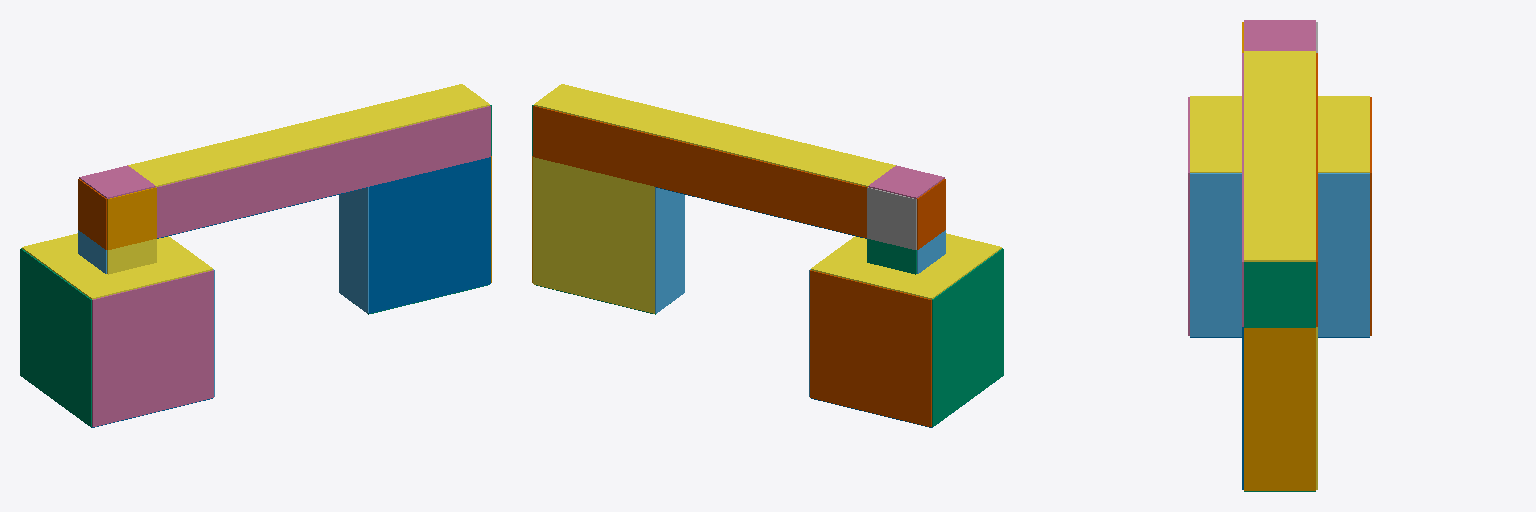
--- What the picture shows (computed from the rendered views, not written in the file) ---
3 views of the same robot in one strip: view 1: azimuth 30°, elevation 25°; view 2: azimuth 150°, elevation 25°; view 3: azimuth 270°, elevation 25° (orthographic).
Model robot with 51 links and 50 joints (2 continuous, 48 fixed), rooted at body, posed every joint at zero.
Links seen in each view (by area): view 1: arm_sensor_0_right, body_sensor_0_right, hand_1_sensor_0_right, arm_sensor_0_top, body_sensor_0_stop, body_sensor_0_top, hand_1_sensor_0_stop, joint_2_sensor_0_right, joint_2_sensor_0_stop, joint_2_sensor_0_top, joint_1_sensor_0_right, joint_1_sensor_0_stop; view 2: arm_sensor_0_left, body_sensor_0_left, hand_1_sensor_0_left, arm_sensor_0_top, body_sensor_0_stop, body_sensor_0_top, hand_1_sensor_0_stop, joint_2_sensor_0_left, joint_2_sensor_0_stop, joint_2_sensor_0_top, joint_1_sensor_0_left, joint_1_sensor_0_stop; view 3: body_sensor_0_start, arm_sensor_0_top, hand_1_sensor_0_start, body_sensor_0_top, arm_sensor_0_start, joint_2_sensor_0_top, arm_sensor_0_left, arm_sensor_0_right.
Boxes of the visible links, left/top/right/bottom form: arm_sensor_0_right: left=156, top=106, right=490, bottom=237; body_sensor_0_right: left=92, top=270, right=213, bottom=426; hand_1_sensor_0_right: left=369, top=157, right=490, bottom=313; arm_sensor_0_top: left=128, top=84, right=489, bottom=186; body_sensor_0_stop: left=20, top=248, right=91, bottom=426; body_sensor_0_top: left=22, top=233, right=212, bottom=299; hand_1_sensor_0_stop: left=339, top=187, right=368, bottom=313; joint_2_sensor_0_right: left=107, top=187, right=156, bottom=249; joint_2_sensor_0_stop: left=78, top=179, right=106, bottom=249; joint_2_sensor_0_top: left=79, top=165, right=155, bottom=198; joint_1_sensor_0_right: left=107, top=239, right=156, bottom=274; joint_1_sensor_0_stop: left=78, top=230, right=106, bottom=273; arm_sensor_0_left: left=533, top=106, right=867, bottom=237; body_sensor_0_left: left=810, top=270, right=931, bottom=426; hand_1_sensor_0_left: left=533, top=157, right=654, bottom=313; arm_sensor_0_top: left=534, top=84, right=895, bottom=186; body_sensor_0_stop: left=932, top=248, right=1003, bottom=426; body_sensor_0_top: left=811, top=233, right=1001, bottom=299; hand_1_sensor_0_stop: left=655, top=187, right=684, bottom=313; joint_2_sensor_0_left: left=867, top=187, right=916, bottom=249; joint_2_sensor_0_stop: left=917, top=179, right=945, bottom=249; joint_2_sensor_0_top: left=868, top=165, right=944, bottom=198; joint_1_sensor_0_left: left=867, top=239, right=916, bottom=274; joint_1_sensor_0_stop: left=917, top=230, right=945, bottom=273; body_sensor_0_start: left=1190, top=173, right=1369, bottom=336; arm_sensor_0_top: left=1244, top=51, right=1315, bottom=261; hand_1_sensor_0_start: left=1244, top=328, right=1315, bottom=490; body_sensor_0_top: left=1190, top=96, right=1369, bottom=172; arm_sensor_0_start: left=1244, top=262, right=1315, bottom=327; joint_2_sensor_0_top: left=1244, top=20, right=1315, bottom=50; arm_sensor_0_left: left=1316, top=53, right=1317, bottom=326; arm_sensor_0_right: left=1242, top=53, right=1243, bottom=326.
Size in the robot's own frame: 3.47 by 1.02 by 1.62 metres.
Geometry: primitives only (box / cylinder / sphere), no mesh files.

The robot description file, URDF, robot "robot":
<?xml version="1.0"?>
    <robot name="robot">


    <!-- body -->
    <link name="body">
        <inertial>
            <origin xyz="0 0 0" rpy="0 0 0"/>
            <mass value="100"/>
            <inertia ixx=".1" ixy=".1" ixz=".1" iyy=".1" iyz=".1" izz=".1"/>
        </inertial>
        <visual>
            <origin xyz="0 0 0" rpy="0 0 0"/>
            <geometry>
                <box size="1 1 1"/>
            </geometry>
        </visual>
        <collision>
            <origin xyz="0 0 0" rpy="0 0 0"/>
            <geometry>
                <box size="1 1 1"/>
            </geometry>
        </collision>
    </link>


    <!-- body_sensor_0_start -->
    <link name="body_sensor_0_start">
        <inertial>
            <origin xyz="0 0 0" rpy="0 0 0"/>
            <mass value="0"/>
            <inertia ixx=".1" ixy=".1" ixz=".1" iyy=".1" iyz=".1" izz=".1"/>
        </inertial>
        <visual>
            <origin xyz="0 0 0" rpy="0 0 0"/>
            <geometry>
                <box size="0.02 1 1"/>
            </geometry>
        </visual>
        <collision>
            <origin xyz="0 0 0" rpy="0 0 0"/>
            <geometry>
                <box size="0.02 1 1"/>
            </geometry>
        </collision>
    </link>
    <!-- Joint: body, body_sensor_0_start -->
    <joint name="body_body_sensor_0_start_joint" type="fixed">
        <parent link="body"/>
        <child link="body_sensor_0_start"/>
        <origin xyz="0.5 0 0"
                rpy="0 0 0"/>
        <axis xyz="0 0 1"/>
        
    </joint>


    <!-- body_sensor_0_stop -->
    <link name="body_sensor_0_stop">
        <inertial>
            <origin xyz="0 0 0" rpy="0 0 0"/>
            <mass value="0"/>
            <inertia ixx=".1" ixy=".1" ixz=".1" iyy=".1" iyz=".1" izz=".1"/>
        </inertial>
        <visual>
            <origin xyz="0 0 0" rpy="0 0 0"/>
            <geometry>
                <box size="0.02 1 1"/>
            </geometry>
        </visual>
        <collision>
            <origin xyz="0 0 0" rpy="0 0 0"/>
            <geometry>
                <box size="0.02 1 1"/>
            </geometry>
        </collision>
    </link>
    <!-- Joint: body, body_sensor_0_stop -->
    <joint name="body_body_sensor_0_stop_joint" type="fixed">
        <parent link="body"/>
        <child link="body_sensor_0_stop"/>
        <origin xyz="-0.5 0 0"
                rpy="0 0 0"/>
        <axis xyz="0 0 1"/>
        
    </joint>


    <!-- body_sensor_0_top -->
    <link name="body_sensor_0_top">
        <inertial>
            <origin xyz="0 0 0" rpy="0 0 0"/>
            <mass value="0"/>
            <inertia ixx=".1" ixy=".1" ixz=".1" iyy=".1" iyz=".1" izz=".1"/>
        </inertial>
        <visual>
            <origin xyz="0 0 0" rpy="0 0 0"/>
            <geometry>
                <box size="1.0 1 0.02"/>
            </geometry>
        </visual>
        <collision>
            <origin xyz="0 0 0" rpy="0 0 0"/>
            <geometry>
                <box size="1.0 1 0.02"/>
            </geometry>
        </collision>
    </link>
    <!-- Joint: body, body_sensor_0_top -->
    <joint name="body_body_sensor_0_top_joint" type="fixed">
        <parent link="body"/>
        <child link="body_sensor_0_top"/>
        <origin xyz="0 0 0.5"
                rpy="0 0 0"/>
        <axis xyz="0 0 1"/>
        
    </joint>


    <!-- body_sensor_0_bottom -->
    <link name="body_sensor_0_bottom">
        <inertial>
            <origin xyz="0 0 0" rpy="0 0 0"/>
            <mass value="0"/>
            <inertia ixx=".1" ixy=".1" ixz=".1" iyy=".1" iyz=".1" izz=".1"/>
        </inertial>
        <visual>
            <origin xyz="0 0 0" rpy="0 0 0"/>
            <geometry>
                <box size="1.0 1 0.02"/>
            </geometry>
        </visual>
        <collision>
            <origin xyz="0 0 0" rpy="0 0 0"/>
            <geometry>
                <box size="1.0 1 0.02"/>
            </geometry>
        </collision>
    </link>
    <!-- Joint: body, body_sensor_0_bottom -->
    <joint name="body_body_sensor_0_bottom_joint" type="fixed">
        <parent link="body"/>
        <child link="body_sensor_0_bottom"/>
        <origin xyz="0 0 -0.5"
                rpy="0 0 0"/>
        <axis xyz="0 0 1"/>
        
    </joint>


    <!-- body_sensor_0_left -->
    <link name="body_sensor_0_left">
        <inertial>
            <origin xyz="0 0 0" rpy="0 0 0"/>
            <mass value="0"/>
            <inertia ixx=".1" ixy=".1" ixz=".1" iyy=".1" iyz=".1" izz=".1"/>
        </inertial>
        <visual>
            <origin xyz="0 0 0" rpy="0 0 0"/>
            <geometry>
                <box size="1.0 0.02 1"/>
            </geometry>
        </visual>
        <collision>
            <origin xyz="0 0 0" rpy="0 0 0"/>
            <geometry>
                <box size="1.0 0.02 1"/>
            </geometry>
        </collision>
    </link>
    <!-- Joint: body, body_sensor_0_left -->
    <joint name="body_body_sensor_0_left_joint" type="fixed">
        <parent link="body"/>
        <child link="body_sensor_0_left"/>
        <origin xyz="0 0.5 0"
                rpy="0 0 0"/>
        <axis xyz="0 0 1"/>
        
    </joint>


    <!-- body_sensor_0_right -->
    <link name="body_sensor_0_right">
        <inertial>
            <origin xyz="0 0 0" rpy="0 0 0"/>
            <mass value="0"/>
            <inertia ixx=".1" ixy=".1" ixz=".1" iyy=".1" iyz=".1" izz=".1"/>
        </inertial>
        <visual>
            <origin xyz="0 0 0" rpy="0 0 0"/>
            <geometry>
                <box size="1.0 0.02 1"/>
            </geometry>
        </visual>
        <collision>
            <origin xyz="0 0 0" rpy="0 0 0"/>
            <geometry>
                <box size="1.0 0.02 1"/>
            </geometry>
        </collision>
    </link>
    <!-- Joint: body, body_sensor_0_right -->
    <joint name="body_body_sensor_0_right_joint" type="fixed">
        <parent link="body"/>
        <child link="body_sensor_0_right"/>
        <origin xyz="0 -0.5 0"
                rpy="0 0 0"/>
        <axis xyz="0 0 1"/>
        
    </joint>


    <!-- joint_1 -->
    <link name="joint_1">
        <inertial>
            <origin xyz="0 0 0" rpy="0 0 0"/>
            <mass value="2"/>
            <inertia ixx=".1" ixy=".1" ixz=".1" iyy=".1" iyz=".1" izz=".1"/>
        </inertial>
        <visual>
            <origin xyz="0 0 0" rpy="0 0 0"/>
            <geometry>
                <box size="0.4 0.4 0.2"/>
            </geometry>
        </visual>
        <collision>
            <origin xyz="0 0 0" rpy="0 0 0"/>
            <geometry>
                <box size="0.4 0.4 0.2"/>
            </geometry>
        </collision>
    </link>


    <!-- joint_1_sensor_0_start -->
    <link name="joint_1_sensor_0_start">
        <inertial>
            <origin xyz="0 0 0" rpy="0 0 0"/>
            <mass value="0"/>
            <inertia ixx=".1" ixy=".1" ixz=".1" iyy=".1" iyz=".1" izz=".1"/>
        </inertial>
        <visual>
            <origin xyz="0 0 0" rpy="0 0 0"/>
            <geometry>
                <box size="0.02 0.4 0.2"/>
            </geometry>
        </visual>
        <collision>
            <origin xyz="0 0 0" rpy="0 0 0"/>
            <geometry>
                <box size="0.02 0.4 0.2"/>
            </geometry>
        </collision>
    </link>
    <!-- Joint: joint_1, joint_1_sensor_0_start -->
    <joint name="joint_1_joint_1_sensor_0_start_joint" type="fixed">
        <parent link="joint_1"/>
        <child link="joint_1_sensor_0_start"/>
        <origin xyz="0.2 0 0"
                rpy="0 0 0"/>
        <axis xyz="0 0 1"/>
        
    </joint>


    <!-- joint_1_sensor_0_stop -->
    <link name="joint_1_sensor_0_stop">
        <inertial>
            <origin xyz="0 0 0" rpy="0 0 0"/>
            <mass value="0"/>
            <inertia ixx=".1" ixy=".1" ixz=".1" iyy=".1" iyz=".1" izz=".1"/>
        </inertial>
        <visual>
            <origin xyz="0 0 0" rpy="0 0 0"/>
            <geometry>
                <box size="0.02 0.4 0.2"/>
            </geometry>
        </visual>
        <collision>
            <origin xyz="0 0 0" rpy="0 0 0"/>
            <geometry>
                <box size="0.02 0.4 0.2"/>
            </geometry>
        </collision>
    </link>
    <!-- Joint: joint_1, joint_1_sensor_0_stop -->
    <joint name="joint_1_joint_1_sensor_0_stop_joint" type="fixed">
        <parent link="joint_1"/>
        <child link="joint_1_sensor_0_stop"/>
        <origin xyz="-0.2 0 0"
                rpy="0 0 0"/>
        <axis xyz="0 0 1"/>
        
    </joint>


    <!-- joint_1_sensor_0_left -->
    <link name="joint_1_sensor_0_left">
        <inertial>
            <origin xyz="0 0 0" rpy="0 0 0"/>
            <mass value="0"/>
            <inertia ixx=".1" ixy=".1" ixz=".1" iyy=".1" iyz=".1" izz=".1"/>
        </inertial>
        <visual>
            <origin xyz="0 0 0" rpy="0 0 0"/>
            <geometry>
                <box size="0.4 0.02 0.2"/>
            </geometry>
        </visual>
        <collision>
            <origin xyz="0 0 0" rpy="0 0 0"/>
            <geometry>
                <box size="0.4 0.02 0.2"/>
            </geometry>
        </collision>
    </link>
    <!-- Joint: joint_1, joint_1_sensor_0_left -->
    <joint name="joint_1_joint_1_sensor_0_left_joint" type="fixed">
        <parent link="joint_1"/>
        <child link="joint_1_sensor_0_left"/>
        <origin xyz="0 0.2 0"
                rpy="0 0 0"/>
        <axis xyz="0 0 1"/>
        
    </joint>


    <!-- joint_1_sensor_0_right -->
    <link name="joint_1_sensor_0_right">
        <inertial>
            <origin xyz="0 0 0" rpy="0 0 0"/>
            <mass value="0"/>
            <inertia ixx=".1" ixy=".1" ixz=".1" iyy=".1" iyz=".1" izz=".1"/>
        </inertial>
        <visual>
            <origin xyz="0 0 0" rpy="0 0 0"/>
            <geometry>
                <box size="0.4 0.02 0.2"/>
            </geometry>
        </visual>
        <collision>
            <origin xyz="0 0 0" rpy="0 0 0"/>
            <geometry>
                <box size="0.4 0.02 0.2"/>
            </geometry>
        </collision>
    </link>
    <!-- Joint: joint_1, joint_1_sensor_0_right -->
    <joint name="joint_1_joint_1_sensor_0_right_joint" type="fixed">
        <parent link="joint_1"/>
        <child link="joint_1_sensor_0_right"/>
        <origin xyz="0 -0.2 0"
                rpy="0 0 0"/>
        <axis xyz="0 0 1"/>
        
    </joint>
    <!-- Joint: body, joint_1 -->
    <joint name="body_joint_1_joint" type="continuous">
        <parent link="body"/>
        <child link="joint_1"/>
        <origin xyz="0 0 0.6"
                rpy="0 0 0"/>
        <axis xyz="0 0 1"/>
        <limit lower="0" upper="0" effort="0" velocity="0"/>
    </joint>


    <!-- joint_2 -->
    <link name="joint_2">
        <inertial>
            <origin xyz="0 0 0" rpy="0 0 0"/>
            <mass value="2"/>
            <inertia ixx=".1" ixy=".1" ixz=".1" iyy=".1" iyz=".1" izz=".1"/>
        </inertial>
        <visual>
            <origin xyz="0 0 0" rpy="0 0 0"/>
            <geometry>
                <box size="0.4 0.4 0.4"/>
            </geometry>
        </visual>
        <collision>
            <origin xyz="0 0 0" rpy="0 0 0"/>
            <geometry>
                <box size="0.4 0.4 0.4"/>
            </geometry>
        </collision>
    </link>


    <!-- joint_2_sensor_0_stop -->
    <link name="joint_2_sensor_0_stop">
        <inertial>
            <origin xyz="0 0 0" rpy="0 0 0"/>
            <mass value="0"/>
            <inertia ixx=".1" ixy=".1" ixz=".1" iyy=".1" iyz=".1" izz=".1"/>
        </inertial>
        <visual>
            <origin xyz="0 0 0" rpy="0 0 0"/>
            <geometry>
                <box size="0.02 0.4 0.4"/>
            </geometry>
        </visual>
        <collision>
            <origin xyz="0 0 0" rpy="0 0 0"/>
            <geometry>
                <box size="0.02 0.4 0.4"/>
            </geometry>
        </collision>
    </link>
    <!-- Joint: joint_2, joint_2_sensor_0_stop -->
    <joint name="joint_2_joint_2_sensor_0_stop_joint" type="fixed">
        <parent link="joint_2"/>
        <child link="joint_2_sensor_0_stop"/>
        <origin xyz="-0.2 0 0"
                rpy="0 0 0"/>
        <axis xyz="0 1 0"/>
        
    </joint>


    <!-- joint_2_sensor_0_top -->
    <link name="joint_2_sensor_0_top">
        <inertial>
            <origin xyz="0 0 0" rpy="0 0 0"/>
            <mass value="0"/>
            <inertia ixx=".1" ixy=".1" ixz=".1" iyy=".1" iyz=".1" izz=".1"/>
        </inertial>
        <visual>
            <origin xyz="0 0 0" rpy="0 0 0"/>
            <geometry>
                <box size="0.4 0.4 0.02"/>
            </geometry>
        </visual>
        <collision>
            <origin xyz="0 0 0" rpy="0 0 0"/>
            <geometry>
                <box size="0.4 0.4 0.02"/>
            </geometry>
        </collision>
    </link>
    <!-- Joint: joint_2, joint_2_sensor_0_top -->
    <joint name="joint_2_joint_2_sensor_0_top_joint" type="fixed">
        <parent link="joint_2"/>
        <child link="joint_2_sensor_0_top"/>
        <origin xyz="0 0 0.2"
                rpy="0 0 0"/>
        <axis xyz="0 1 0"/>
        
    </joint>


    <!-- joint_2_sensor_0_left -->
    <link name="joint_2_sensor_0_left">
        <inertial>
            <origin xyz="0 0 0" rpy="0 0 0"/>
            <mass value="0"/>
            <inertia ixx=".1" ixy=".1" ixz=".1" iyy=".1" iyz=".1" izz=".1"/>
        </inertial>
        <visual>
            <origin xyz="0 0 0" rpy="0 0 0"/>
            <geometry>
                <box size="0.4 0.02 0.4"/>
            </geometry>
        </visual>
        <collision>
            <origin xyz="0 0 0" rpy="0 0 0"/>
            <geometry>
                <box size="0.4 0.02 0.4"/>
            </geometry>
        </collision>
    </link>
    <!-- Joint: joint_2, joint_2_sensor_0_left -->
    <joint name="joint_2_joint_2_sensor_0_left_joint" type="fixed">
        <parent link="joint_2"/>
        <child link="joint_2_sensor_0_left"/>
        <origin xyz="0 0.2 0"
                rpy="0 0 0"/>
        <axis xyz="0 1 0"/>
        
    </joint>


    <!-- joint_2_sensor_0_right -->
    <link name="joint_2_sensor_0_right">
        <inertial>
            <origin xyz="0 0 0" rpy="0 0 0"/>
            <mass value="0"/>
            <inertia ixx=".1" ixy=".1" ixz=".1" iyy=".1" iyz=".1" izz=".1"/>
        </inertial>
        <visual>
            <origin xyz="0 0 0" rpy="0 0 0"/>
            <geometry>
                <box size="0.4 0.02 0.4"/>
            </geometry>
        </visual>
        <collision>
            <origin xyz="0 0 0" rpy="0 0 0"/>
            <geometry>
                <box size="0.4 0.02 0.4"/>
            </geometry>
        </collision>
    </link>
    <!-- Joint: joint_2, joint_2_sensor_0_right -->
    <joint name="joint_2_joint_2_sensor_0_right_joint" type="fixed">
        <parent link="joint_2"/>
        <child link="joint_2_sensor_0_right"/>
        <origin xyz="0 -0.2 0"
                rpy="0 0 0"/>
        <axis xyz="0 1 0"/>
        
    </joint>
    <!-- Joint: joint_1, joint_2 -->
    <joint name="joint_1_joint_2_joint" type="continuous">
        <parent link="joint_1"/>
        <child link="joint_2"/>
        <origin xyz="0 0 0.30000000000000004"
                rpy="0 0 0"/>
        <axis xyz="0 1 0"/>
        <limit lower="0" upper="0" effort="0" velocity="0"/>
    </joint>


    <!-- arm -->
    <link name="arm">
        <inertial>
            <origin xyz="0 0 0" rpy="0 0 0"/>
            <mass value="2"/>
            <inertia ixx=".1" ixy=".1" ixz=".1" iyy=".1" iyz=".1" izz=".1"/>
        </inertial>
        <visual>
            <origin xyz="0 0 0" rpy="0 0 0"/>
            <geometry>
                <box size="2.75 0.4 0.4"/>
            </geometry>
        </visual>
        <collision>
            <origin xyz="0 0 0" rpy="0 0 0"/>
            <geometry>
                <box size="2.75 0.4 0.4"/>
            </geometry>
        </collision>
    </link>


    <!-- arm_sensor_0_start -->
    <link name="arm_sensor_0_start">
        <inertial>
            <origin xyz="0 0 0" rpy="0 0 0"/>
            <mass value="0"/>
            <inertia ixx=".1" ixy=".1" ixz=".1" iyy=".1" iyz=".1" izz=".1"/>
        </inertial>
        <visual>
            <origin xyz="0 0 0" rpy="0 0 0"/>
            <geometry>
                <box size="0.02 0.4 0.4"/>
            </geometry>
        </visual>
        <collision>
            <origin xyz="0 0 0" rpy="0 0 0"/>
            <geometry>
                <box size="0.02 0.4 0.4"/>
            </geometry>
        </collision>
    </link>
    <!-- Joint: arm, arm_sensor_0_start -->
    <joint name="arm_arm_sensor_0_start_joint" type="fixed">
        <parent link="arm"/>
        <child link="arm_sensor_0_start"/>
        <origin xyz="1.375 0 0"
                rpy="0 0 0"/>
        <axis xyz="0 1 0"/>
        
    </joint>


    <!-- arm_sensor_0_top -->
    <link name="arm_sensor_0_top">
        <inertial>
            <origin xyz="0 0 0" rpy="0 0 0"/>
            <mass value="0"/>
            <inertia ixx=".1" ixy=".1" ixz=".1" iyy=".1" iyz=".1" izz=".1"/>
        </inertial>
        <visual>
            <origin xyz="0 0 0" rpy="0 0 0"/>
            <geometry>
                <box size="2.75 0.4 0.02"/>
            </geometry>
        </visual>
        <collision>
            <origin xyz="0 0 0" rpy="0 0 0"/>
            <geometry>
                <box size="2.75 0.4 0.02"/>
            </geometry>
        </collision>
    </link>
    <!-- Joint: arm, arm_sensor_0_top -->
    <joint name="arm_arm_sensor_0_top_joint" type="fixed">
        <parent link="arm"/>
        <child link="arm_sensor_0_top"/>
        <origin xyz="0 0 0.2"
                rpy="0 0 0"/>
        <axis xyz="0 1 0"/>
        
    </joint>


    <!-- arm_sensor_0_bottom -->
    <link name="arm_sensor_0_bottom">
        <inertial>
            <origin xyz="0 0 0" rpy="0 0 0"/>
            <mass value="0"/>
            <inertia ixx=".1" ixy=".1" ixz=".1" iyy=".1" iyz=".1" izz=".1"/>
        </inertial>
        <visual>
            <origin xyz="0 0 0" rpy="0 0 0"/>
            <geometry>
                <box size="2.75 0.4 0.02"/>
            </geometry>
        </visual>
        <collision>
            <origin xyz="0 0 0" rpy="0 0 0"/>
            <geometry>
                <box size="2.75 0.4 0.02"/>
            </geometry>
        </collision>
    </link>
    <!-- Joint: arm, arm_sensor_0_bottom -->
    <joint name="arm_arm_sensor_0_bottom_joint" type="fixed">
        <parent link="arm"/>
        <child link="arm_sensor_0_bottom"/>
        <origin xyz="0 0 -0.2"
                rpy="0 0 0"/>
        <axis xyz="0 1 0"/>
        
    </joint>


    <!-- arm_sensor_0_left -->
    <link name="arm_sensor_0_left">
        <inertial>
            <origin xyz="0 0 0" rpy="0 0 0"/>
            <mass value="0"/>
            <inertia ixx=".1" ixy=".1" ixz=".1" iyy=".1" iyz=".1" izz=".1"/>
        </inertial>
        <visual>
            <origin xyz="0 0 0" rpy="0 0 0"/>
            <geometry>
                <box size="2.75 0.02 0.4"/>
            </geometry>
        </visual>
        <collision>
            <origin xyz="0 0 0" rpy="0 0 0"/>
            <geometry>
                <box size="2.75 0.02 0.4"/>
            </geometry>
        </collision>
    </link>
    <!-- Joint: arm, arm_sensor_0_left -->
    <joint name="arm_arm_sensor_0_left_joint" type="fixed">
        <parent link="arm"/>
        <child link="arm_sensor_0_left"/>
        <origin xyz="0 0.2 0"
                rpy="0 0 0"/>
        <axis xyz="0 1 0"/>
        
    </joint>


    <!-- arm_sensor_0_right -->
    <link name="arm_sensor_0_right">
        <inertial>
            <origin xyz="0 0 0" rpy="0 0 0"/>
            <mass value="0"/>
            <inertia ixx=".1" ixy=".1" ixz=".1" iyy=".1" iyz=".1" izz=".1"/>
        </inertial>
        <visual>
            <origin xyz="0 0 0" rpy="0 0 0"/>
            <geometry>
                <box size="2.75 0.02 0.4"/>
            </geometry>
        </visual>
        <collision>
            <origin xyz="0 0 0" rpy="0 0 0"/>
            <geometry>
                <box size="2.75 0.02 0.4"/>
            </geometry>
        </collision>
    </link>
    <!-- Joint: arm, arm_sensor_0_right -->
    <joint name="arm_arm_sensor_0_right_joint" type="fixed">
        <parent link="arm"/>
        <child link="arm_sensor_0_right"/>
        <origin xyz="0 -0.2 0"
                rpy="0 0 0"/>
        <axis xyz="0 1 0"/>
        
    </joint>
    <!-- Joint: joint_2, arm -->
    <joint name="joint_2_arm_joint" type="fixed">
        <parent link="joint_2"/>
        <child link="arm"/>
        <origin xyz="1.575 0 0"
                rpy="0 0 0"/>
        <axis xyz="0 1 0"/>
        
    </joint>


    <!-- hand_1 -->
    <link name="hand_1">
        <inertial>
            <origin xyz="0 0 0" rpy="0 0 0"/>
            <mass value="2"/>
            <inertia ixx=".1" ixy=".1" ixz=".1" iyy=".1" iyz=".1" izz=".1"/>
        </inertial>
        <visual>
            <origin xyz="0 0 0" rpy="0 0 0"/>
            <geometry>
                <box size="1 0.4 1"/>
            </geometry>
        </visual>
        <collision>
            <origin xyz="0 0 0" rpy="0 0 0"/>
            <geometry>
                <box size="1 0.4 1"/>
            </geometry>
        </collision>
    </link>


    <!-- hand_1_sensor_0_start -->
    <link name="hand_1_sensor_0_start">
        <inertial>
            <origin xyz="0 0 0" rpy="0 0 0"/>
            <mass value="0"/>
            <inertia ixx=".1" ixy=".1" ixz=".1" iyy=".1" iyz=".1" izz=".1"/>
        </inertial>
        <visual>
            <origin xyz="0 0 0" rpy="0 0 0"/>
            <geometry>
                <box size="0.02 0.4 1"/>
            </geometry>
        </visual>
        <collision>
            <origin xyz="0 0 0" rpy="0 0 0"/>
            <geometry>
                <box size="0.02 0.4 1"/>
            </geometry>
        </collision>
    </link>
    <!-- Joint: hand_1, hand_1_sensor_0_start -->
    <joint name="hand_1_hand_1_sensor_0_start_joint" type="fixed">
        <parent link="hand_1"/>
        <child link="hand_1_sensor_0_start"/>
        <origin xyz="0.5 0 0"
                rpy="0 0 0"/>
        <axis xyz="0 1 0"/>
        
    </joint>


    <!-- hand_1_sensor_0_stop -->
    <link name="hand_1_sensor_0_stop">
        <inertial>
            <origin xyz="0 0 0" rpy="0 0 0"/>
            <mass value="0"/>
            <inertia ixx=".1" ixy=".1" ixz=".1" iyy=".1" iyz=".1" izz=".1"/>
        </inertial>
        <visual>
            <origin xyz="0 0 0" rpy="0 0 0"/>
            <geometry>
                <box size="0.02 0.4 1"/>
            </geometry>
        </visual>
        <collision>
            <origin xyz="0 0 0" rpy="0 0 0"/>
            <geometry>
                <box size="0.02 0.4 1"/>
            </geometry>
        </collision>
    </link>
    <!-- Joint: hand_1, hand_1_sensor_0_stop -->
    <joint name="hand_1_hand_1_sensor_0_stop_joint" type="fixed">
        <parent link="hand_1"/>
        <child link="hand_1_sensor_0_stop"/>
        <origin xyz="-0.5 0 0"
                rpy="0 0 0"/>
        <axis xyz="0 1 0"/>
        
    </joint>


    <!-- hand_1_sensor_0_bottom -->
    <link name="hand_1_sensor_0_bottom">
        <inertial>
            <origin xyz="0 0 0" rpy="0 0 0"/>
            <mass value="0"/>
            <inertia ixx=".1" ixy=".1" ixz=".1" iyy=".1" iyz=".1" izz=".1"/>
        </inertial>
        <visual>
            <origin xyz="0 0 0" rpy="0 0 0"/>
            <geometry>
                <box size="1.0 0.4 0.02"/>
            </geometry>
        </visual>
        <collision>
            <origin xyz="0 0 0" rpy="0 0 0"/>
            <geometry>
                <box size="1.0 0.4 0.02"/>
            </geometry>
        </collision>
    </link>
    <!-- Joint: hand_1, hand_1_sensor_0_bottom -->
    <joint name="hand_1_hand_1_sensor_0_bottom_joint" type="fixed">
        <parent link="hand_1"/>
        <child link="hand_1_sensor_0_bottom"/>
        <origin xyz="0 0 -0.5"
                rpy="0 0 0"/>
        <axis xyz="0 1 0"/>
        
    </joint>


    <!-- hand_1_sensor_0_left -->
    <link name="hand_1_sensor_0_left">
        <inertial>
            <origin xyz="0 0 0" rpy="0 0 0"/>
            <mass value="0"/>
            <inertia ixx=".1" ixy=".1" ixz=".1" iyy=".1" iyz=".1" izz=".1"/>
        </inertial>
        <visual>
            <origin xyz="0 0 0" rpy="0 0 0"/>
            <geometry>
                <box size="1.0 0.02 1"/>
            </geometry>
        </visual>
        <collision>
            <origin xyz="0 0 0" rpy="0 0 0"/>
            <geometry>
                <box size="1.0 0.02 1"/>
            </geometry>
        </collision>
    </link>
    <!-- Joint: hand_1, hand_1_sensor_0_left -->
    <joint name="hand_1_hand_1_sensor_0_left_joint" type="fixed">
        <parent link="hand_1"/>
        <child link="hand_1_sensor_0_left"/>
        <origin xyz="0 0.2 0"
                rpy="0 0 0"/>
        <axis xyz="0 1 0"/>
        
    </joint>


    <!-- hand_1_sensor_0_right -->
    <link name="hand_1_sensor_0_right">
        <inertial>
            <origin xyz="0 0 0" rpy="0 0 0"/>
            <mass value="0"/>
            <inertia ixx=".1" ixy=".1" ixz=".1" iyy=".1" iyz=".1" izz=".1"/>
        </inertial>
        <visual>
            <origin xyz="0 0 0" rpy="0 0 0"/>
            <geometry>
                <box size="1.0 0.02 1"/>
            </geometry>
        </visual>
        <collision>
            <origin xyz="0 0 0" rpy="0 0 0"/>
            <geometry>
                <box size="1.0 0.02 1"/>
            </geometry>
        </collision>
    </link>
    <!-- Joint: hand_1, hand_1_sensor_0_right -->
    <joint name="hand_1_hand_1_sensor_0_right_joint" type="fixed">
        <parent link="hand_1"/>
        <child link="hand_1_sensor_0_right"/>
        <origin xyz="0 -0.2 0"
                rpy="0 0 0"/>
        <axis xyz="0 1 0"/>
        
    </joint>
    <!-- Joint: arm, hand_1 -->
    <joint name="arm_hand_1_joint" type="fixed">
        <parent link="arm"/>
        <child link="hand_1"/>
        <origin xyz="0.875 0 -0.7"
                rpy="0 0 0"/>
        <axis xyz="0 1 0"/>
        
    </joint>


    <!-- body_face_front_0 -->
    <link name="body_face_front_0">
        <inertial>
            <origin xyz="0 0 0" rpy="0 0 0"/>
            <mass value="0"/>
            <inertia ixx=".1" ixy=".1" ixz=".1" iyy=".1" iyz=".1" izz=".1"/>
        </inertial>
        <visual>
            <origin xyz="0 0 0" rpy="0 0 0"/>
            <geometry>
                <box size="0.002 0.1111111111111111 0.1111111111111111"/>
            </geometry>
        </visual>
        <collision>
            <origin xyz="0 0 0" rpy="0 0 0"/>
            <geometry>
                <box size="0.002 0.1111111111111111 0.1111111111111111"/>
            </geometry>
        </collision>
    </link>
    <!-- Joint: body, body_face_front_0 -->
    <joint name="body_body_face_front_0_joint" type="fixed">
        <parent link="body"/>
        <child link="body_face_front_0"/>
        <origin xyz="0.501 -0.33333333333333337 0.11111111111111116"
                rpy="0 0 0"/>
        <axis xyz="0 0 1"/>
        
    </joint>


    <!-- body_face_front_1 -->
    <link name="body_face_front_1">
        <inertial>
            <origin xyz="0 0 0" rpy="0 0 0"/>
            <mass value="0"/>
            <inertia ixx=".1" ixy=".1" ixz=".1" iyy=".1" iyz=".1" izz=".1"/>
        </inertial>
        <visual>
            <origin xyz="0 0 0" rpy="0 0 0"/>
            <geometry>
                <box size="0.002 0.1111111111111111 0.1111111111111111"/>
            </geometry>
        </visual>
        <collision>
            <origin xyz="0 0 0" rpy="0 0 0"/>
            <geometry>
                <box size="0.002 0.1111111111111111 0.1111111111111111"/>
            </geometry>
        </collision>
    </link>
    <!-- Joint: body, body_face_front_1 -->
    <joint name="body_body_face_front_1_joint" type="fixed">
        <parent link="body"/>
        <child link="body_face_front_1"/>
        <origin xyz="0.501 -0.2222222222222222 0.2222222222222222"
                rpy="0 0 0"/>
        <axis xyz="0 0 1"/>
        
    </joint>


    <!-- body_face_front_2 -->
    <link name="body_face_front_2">
        <inertial>
            <origin xyz="0 0 0" rpy="0 0 0"/>
            <mass value="0"/>
            <inertia ixx=".1" ixy=".1" ixz=".1" iyy=".1" iyz=".1" izz=".1"/>
        </inertial>
        <visual>
            <origin xyz="0 0 0" rpy="0 0 0"/>
            <geometry>
                <box size="0.002 0.1111111111111111 0.1111111111111111"/>
            </geometry>
        </visual>
        <collision>
            <origin xyz="0 0 0" rpy="0 0 0"/>
            <geometry>
                <box size="0.002 0.1111111111111111 0.1111111111111111"/>
            </geometry>
        </collision>
    </link>
    <!-- Joint: body, body_face_front_2 -->
    <joint name="body_body_face_front_2_joint" type="fixed">
        <parent link="body"/>
        <child link="body_face_front_2"/>
        <origin xyz="0.501 -0.1111111111111111 0.11111111111111116"
                rpy="0 0 0"/>
        <axis xyz="0 0 1"/>
        
    </joint>


    <!-- body_face_front_3 -->
    <link name="body_face_front_3">
        <inertial>
            <origin xyz="0 0 0" rpy="0 0 0"/>
            <mass value="0"/>
            <inertia ixx=".1" ixy=".1" ixz=".1" iyy=".1" iyz=".1" izz=".1"/>
        </inertial>
        <visual>
            <origin xyz="0 0 0" rpy="0 0 0"/>
            <geometry>
                <box size="0.002 0.1111111111111111 0.1111111111111111"/>
            </geometry>
        </visual>
        <collision>
            <origin xyz="0 0 0" rpy="0 0 0"/>
            <geometry>
                <box size="0.002 0.1111111111111111 0.1111111111111111"/>
            </geometry>
        </collision>
    </link>
    <!-- Joint: body, body_face_front_3 -->
    <joint name="body_body_face_front_3_joint" type="fixed">
        <parent link="body"/>
        <child link="body_face_front_3"/>
        <origin xyz="0.501 -0.1111111111111111 -0.2222222222222222"
                rpy="0 0 0"/>
        <axis xyz="0 0 1"/>
        
    </joint>


    <!-- body_face_front_4 -->
    <link name="body_face_front_4">
        <inertial>
            <origin xyz="0 0 0" rpy="0 0 0"/>
            <mass value="0"/>
            <inertia ixx=".1" ixy=".1" ixz=".1" iyy=".1" iyz=".1" izz=".1"/>
        </inertial>
        <visual>
            <origin xyz="0 0 0" rpy="0 0 0"/>
            <geometry>
                <box size="0.002 0.1111111111111111 0.1111111111111111"/>
            </geometry>
        </visual>
        <collision>
            <origin xyz="0 0 0" rpy="0 0 0"/>
            <geometry>
                <box size="0.002 0.1111111111111111 0.1111111111111111"/>
            </geometry>
        </collision>
    </link>
    <!-- Joint: body, body_face_front_4 -->
    <joint name="body_body_face_front_4_joint" type="fixed">
        <parent link="body"/>
        <child link="body_face_front_4"/>
        <origin xyz="0.501 0.0 -0.2222222222222222"
                rpy="0 0 0"/>
        <axis xyz="0 0 1"/>
        
    </joint>


    <!-- body_face_front_5 -->
    <link name="body_face_front_5">
        <inertial>
            <origin xyz="0 0 0" rpy="0 0 0"/>
            <mass value="0"/>
            <inertia ixx=".1" ixy=".1" ixz=".1" iyy=".1" iyz=".1" izz=".1"/>
        </inertial>
        <visual>
            <origin xyz="0 0 0" rpy="0 0 0"/>
            <geometry>
                <box size="0.002 0.1111111111111111 0.1111111111111111"/>
            </geometry>
        </visual>
        <collision>
            <origin xyz="0 0 0" rpy="0 0 0"/>
            <geometry>
                <box size="0.002 0.1111111111111111 0.1111111111111111"/>
            </geometry>
        </collision>
    </link>
    <!-- Joint: body, body_face_front_5 -->
    <joint name="body_body_face_front_5_joint" type="fixed">
        <parent link="body"/>
        <child link="body_face_front_5"/>
        <origin xyz="0.501 0.11111111111111116 0.11111111111111116"
                rpy="0 0 0"/>
        <axis xyz="0 0 1"/>
        
    </joint>


    <!-- body_face_front_6 -->
    <link name="body_face_front_6">
        <inertial>
            <origin xyz="0 0 0" rpy="0 0 0"/>
            <mass value="0"/>
            <inertia ixx=".1" ixy=".1" ixz=".1" iyy=".1" iyz=".1" izz=".1"/>
        </inertial>
        <visual>
            <origin xyz="0 0 0" rpy="0 0 0"/>
            <geometry>
                <box size="0.002 0.1111111111111111 0.1111111111111111"/>
            </geometry>
        </visual>
        <collision>
            <origin xyz="0 0 0" rpy="0 0 0"/>
            <geometry>
                <box size="0.002 0.1111111111111111 0.1111111111111111"/>
            </geometry>
        </collision>
    </link>
    <!-- Joint: body, body_face_front_6 -->
    <joint name="body_body_face_front_6_joint" type="fixed">
        <parent link="body"/>
        <child link="body_face_front_6"/>
        <origin xyz="0.501 0.11111111111111116 -0.2222222222222222"
                rpy="0 0 0"/>
        <axis xyz="0 0 1"/>
        
    </joint>


    <!-- body_face_front_7 -->
    <link name="body_face_front_7">
        <inertial>
            <origin xyz="0 0 0" rpy="0 0 0"/>
            <mass value="0"/>
            <inertia ixx=".1" ixy=".1" ixz=".1" iyy=".1" iyz=".1" izz=".1"/>
        </inertial>
        <visual>
            <origin xyz="0 0 0" rpy="0 0 0"/>
            <geometry>
                <box size="0.002 0.1111111111111111 0.1111111111111111"/>
            </geometry>
        </visual>
        <collision>
            <origin xyz="0 0 0" rpy="0 0 0"/>
            <geometry>
                <box size="0.002 0.1111111111111111 0.1111111111111111"/>
            </geometry>
        </collision>
    </link>
    <!-- Joint: body, body_face_front_7 -->
    <joint name="body_body_face_front_7_joint" type="fixed">
        <parent link="body"/>
        <child link="body_face_front_7"/>
        <origin xyz="0.501 0.2222222222222222 0.2222222222222222"
                rpy="0 0 0"/>
        <axis xyz="0 0 1"/>
        
    </joint>


    <!-- body_face_front_8 -->
    <link name="body_face_front_8">
        <inertial>
            <origin xyz="0 0 0" rpy="0 0 0"/>
            <mass value="0"/>
            <inertia ixx=".1" ixy=".1" ixz=".1" iyy=".1" iyz=".1" izz=".1"/>
        </inertial>
        <visual>
            <origin xyz="0 0 0" rpy="0 0 0"/>
            <geometry>
                <box size="0.002 0.1111111111111111 0.1111111111111111"/>
            </geometry>
        </visual>
        <collision>
            <origin xyz="0 0 0" rpy="0 0 0"/>
            <geometry>
                <box size="0.002 0.1111111111111111 0.1111111111111111"/>
            </geometry>
        </collision>
    </link>
    <!-- Joint: body, body_face_front_8 -->
    <joint name="body_body_face_front_8_joint" type="fixed">
        <parent link="body"/>
        <child link="body_face_front_8"/>
        <origin xyz="0.501 0.33333333333333337 0.11111111111111116"
                rpy="0 0 0"/>
        <axis xyz="0 0 1"/>
        
    </joint>


    <!-- body_face_top_0 -->
    <link name="body_face_top_0">
        <inertial>
            <origin xyz="0 0 0" rpy="0 0 0"/>
            <mass value="0"/>
            <inertia ixx=".1" ixy=".1" ixz=".1" iyy=".1" iyz=".1" izz=".1"/>
        </inertial>
        <visual>
            <origin xyz="0 0 0" rpy="0 0 0"/>
            <geometry>
                <box size="0.1111111111111111 0.1111111111111111 0.002"/>
            </geometry>
        </visual>
        <collision>
            <origin xyz="0 0 0" rpy="0 0 0"/>
            <geometry>
                <box size="0.1111111111111111 0.1111111111111111 0.002"/>
            </geometry>
        </collision>
    </link>
    <!-- Joint: body, body_face_top_0 -->
    <joint name="body_body_face_top_0_joint" type="fixed">
        <parent link="body"/>
        <child link="body_face_top_0"/>
        <origin xyz="0.11111111111111116 -0.2222222222222222 0.501"
                rpy="0 0 0"/>
        <axis xyz="0 0 1"/>
        
    </joint>


    <!-- body_face_top_1 -->
    <link name="body_face_top_1">
        <inertial>
            <origin xyz="0 0 0" rpy="0 0 0"/>
            <mass value="0"/>
            <inertia ixx=".1" ixy=".1" ixz=".1" iyy=".1" iyz=".1" izz=".1"/>
        </inertial>
        <visual>
            <origin xyz="0 0 0" rpy="0 0 0"/>
            <geometry>
                <box size="0.1111111111111111 0.1111111111111111 0.002"/>
            </geometry>
        </visual>
        <collision>
            <origin xyz="0 0 0" rpy="0 0 0"/>
            <geometry>
                <box size="0.1111111111111111 0.1111111111111111 0.002"/>
            </geometry>
        </collision>
    </link>
    <!-- Joint: body, body_face_top_1 -->
    <joint name="body_body_face_top_1_joint" type="fixed">
        <parent link="body"/>
        <child link="body_face_top_1"/>
        <origin xyz="0.11111111111111116 -0.1111111111111111 0.501"
                rpy="0 0 0"/>
        <axis xyz="0 0 1"/>
        
    </joint>


    <!-- body_face_top_2 -->
    <link name="body_face_top_2">
        <inertial>
            <origin xyz="0 0 0" rpy="0 0 0"/>
            <mass value="0"/>
            <inertia ixx=".1" ixy=".1" ixz=".1" iyy=".1" iyz=".1" izz=".1"/>
        </inertial>
        <visual>
            <origin xyz="0 0 0" rpy="0 0 0"/>
            <geometry>
                <box size="0.1111111111111111 0.1111111111111111 0.002"/>
            </geometry>
        </visual>
        <collision>
            <origin xyz="0 0 0" rpy="0 0 0"/>
            <geometry>
                <box size="0.1111111111111111 0.1111111111111111 0.002"/>
            </geometry>
        </collision>
    </link>
    <!-- Joint: body, body_face_top_2 -->
    <joint name="body_body_face_top_2_joint" type="fixed">
        <parent link="body"/>
        <child link="body_face_top_2"/>
        <origin xyz="0.2222222222222222 -0.1111111111111111 0.501"
                rpy="0 0 0"/>
        <axis xyz="0 0 1"/>
        
    </joint>


    <!-- body_face_top_3 -->
    <link name="body_face_top_3">
        <inertial>
            <origin xyz="0 0 0" rpy="0 0 0"/>
            <mass value="0"/>
            <inertia ixx=".1" ixy=".1" ixz=".1" iyy=".1" iyz=".1" izz=".1"/>
        </inertial>
        <visual>
            <origin xyz="0 0 0" rpy="0 0 0"/>
            <geometry>
                <box size="0.1111111111111111 0.1111111111111111 0.002"/>
            </geometry>
        </visual>
        <collision>
            <origin xyz="0 0 0" rpy="0 0 0"/>
            <geometry>
                <box size="0.1111111111111111 0.1111111111111111 0.002"/>
            </geometry>
        </collision>
    </link>
    <!-- Joint: body, body_face_top_3 -->
    <joint name="body_body_face_top_3_joint" type="fixed">
        <parent link="body"/>
        <child link="body_face_top_3"/>
        <origin xyz="-0.33333333333333337 0.0 0.501"
                rpy="0 0 0"/>
        <axis xyz="0 0 1"/>
        
    </joint>


    <!-- body_face_top_4 -->
    <link name="body_face_top_4">
        <inertial>
            <origin xyz="0 0 0" rpy="0 0 0"/>
            <mass value="0"/>
            <inertia ixx=".1" ixy=".1" ixz=".1" iyy=".1" iyz=".1" izz=".1"/>
        </inertial>
        <visual>
            <origin xyz="0 0 0" rpy="0 0 0"/>
            <geometry>
                <box size="0.1111111111111111 0.1111111111111111 0.002"/>
            </geometry>
        </visual>
        <collision>
            <origin xyz="0 0 0" rpy="0 0 0"/>
            <geometry>
                <box size="0.1111111111111111 0.1111111111111111 0.002"/>
            </geometry>
        </collision>
    </link>
    <!-- Joint: body, body_face_top_4 -->
    <joint name="body_body_face_top_4_joint" type="fixed">
        <parent link="body"/>
        <child link="body_face_top_4"/>
        <origin xyz="-0.2222222222222222 0.0 0.501"
                rpy="0 0 0"/>
        <axis xyz="0 0 1"/>
        
    </joint>


    <!-- body_face_top_5 -->
    <link name="body_face_top_5">
        <inertial>
            <origin xyz="0 0 0" rpy="0 0 0"/>
            <mass value="0"/>
            <inertia ixx=".1" ixy=".1" ixz=".1" iyy=".1" iyz=".1" izz=".1"/>
        </inertial>
        <visual>
            <origin xyz="0 0 0" rpy="0 0 0"/>
            <geometry>
                <box size="0.1111111111111111 0.1111111111111111 0.002"/>
            </geometry>
        </visual>
        <collision>
            <origin xyz="0 0 0" rpy="0 0 0"/>
            <geometry>
                <box size="0.1111111111111111 0.1111111111111111 0.002"/>
            </geometry>
        </collision>
    </link>
    <!-- Joint: body, body_face_top_5 -->
    <joint name="body_body_face_top_5_joint" type="fixed">
        <parent link="body"/>
        <child link="body_face_top_5"/>
        <origin xyz="-0.1111111111111111 0.0 0.501"
                rpy="0 0 0"/>
        <axis xyz="0 0 1"/>
        
    </joint>


    <!-- body_face_top_6 -->
    <link name="body_face_top_6">
        <inertial>
            <origin xyz="0 0 0" rpy="0 0 0"/>
            <mass value="0"/>
            <inertia ixx=".1" ixy=".1" ixz=".1" iyy=".1" iyz=".1" izz=".1"/>
        </inertial>
        <visual>
            <origin xyz="0 0 0" rpy="0 0 0"/>
            <geometry>
                <box size="0.1111111111111111 0.1111111111111111 0.002"/>
            </geometry>
        </visual>
        <collision>
            <origin xyz="0 0 0" rpy="0 0 0"/>
            <geometry>
                <box size="0.1111111111111111 0.1111111111111111 0.002"/>
            </geometry>
        </collision>
    </link>
    <!-- Joint: body, body_face_top_6 -->
    <joint name="body_body_face_top_6_joint" type="fixed">
        <parent link="body"/>
        <child link="body_face_top_6"/>
        <origin xyz="0.0 0.0 0.501"
                rpy="0 0 0"/>
        <axis xyz="0 0 1"/>
        
    </joint>


    <!-- body_face_top_7 -->
    <link name="body_face_top_7">
        <inertial>
            <origin xyz="0 0 0" rpy="0 0 0"/>
            <mass value="0"/>
            <inertia ixx=".1" ixy=".1" ixz=".1" iyy=".1" iyz=".1" izz=".1"/>
        </inertial>
        <visual>
            <origin xyz="0 0 0" rpy="0 0 0"/>
            <geometry>
                <box size="0.1111111111111111 0.1111111111111111 0.002"/>
            </geometry>
        </visual>
        <collision>
            <origin xyz="0 0 0" rpy="0 0 0"/>
            <geometry>
                <box size="0.1111111111111111 0.1111111111111111 0.002"/>
            </geometry>
        </collision>
    </link>
    <!-- Joint: body, body_face_top_7 -->
    <joint name="body_body_face_top_7_joint" type="fixed">
        <parent link="body"/>
        <child link="body_face_top_7"/>
        <origin xyz="0.11111111111111116 0.0 0.501"
                rpy="0 0 0"/>
        <axis xyz="0 0 1"/>
        
    </joint>


    <!-- body_face_top_8 -->
    <link name="body_face_top_8">
        <inertial>
            <origin xyz="0 0 0" rpy="0 0 0"/>
            <mass value="0"/>
            <inertia ixx=".1" ixy=".1" ixz=".1" iyy=".1" iyz=".1" izz=".1"/>
        </inertial>
        <visual>
            <origin xyz="0 0 0" rpy="0 0 0"/>
            <geometry>
                <box size="0.1111111111111111 0.1111111111111111 0.002"/>
            </geometry>
        </visual>
        <collision>
            <origin xyz="0 0 0" rpy="0 0 0"/>
            <geometry>
                <box size="0.1111111111111111 0.1111111111111111 0.002"/>
            </geometry>
        </collision>
    </link>
    <!-- Joint: body, body_face_top_8 -->
    <joint name="body_body_face_top_8_joint" type="fixed">
        <parent link="body"/>
        <child link="body_face_top_8"/>
        <origin xyz="0.2222222222222222 0.0 0.501"
                rpy="0 0 0"/>
        <axis xyz="0 0 1"/>
        
    </joint>


    <!-- body_face_top_9 -->
    <link name="body_face_top_9">
        <inertial>
            <origin xyz="0 0 0" rpy="0 0 0"/>
            <mass value="0"/>
            <inertia ixx=".1" ixy=".1" ixz=".1" iyy=".1" iyz=".1" izz=".1"/>
        </inertial>
        <visual>
            <origin xyz="0 0 0" rpy="0 0 0"/>
            <geometry>
                <box size="0.1111111111111111 0.1111111111111111 0.002"/>
            </geometry>
        </visual>
        <collision>
            <origin xyz="0 0 0" rpy="0 0 0"/>
            <geometry>
                <box size="0.1111111111111111 0.1111111111111111 0.002"/>
            </geometry>
        </collision>
    </link>
    <!-- Joint: body, body_face_top_9 -->
    <joint name="body_body_face_top_9_joint" type="fixed">
        <parent link="body"/>
        <child link="body_face_top_9"/>
        <origin xyz="0.33333333333333337 0.0 0.501"
                rpy="0 0 0"/>
        <axis xyz="0 0 1"/>
        
    </joint>


    <!-- body_face_top_10 -->
    <link name="body_face_top_10">
        <inertial>
            <origin xyz="0 0 0" rpy="0 0 0"/>
            <mass value="0"/>
            <inertia ixx=".1" ixy=".1" ixz=".1" iyy=".1" iyz=".1" izz=".1"/>
        </inertial>
        <visual>
            <origin xyz="0 0 0" rpy="0 0 0"/>
            <geometry>
                <box size="0.1111111111111111 0.1111111111111111 0.002"/>
            </geometry>
        </visual>
        <collision>
            <origin xyz="0 0 0" rpy="0 0 0"/>
            <geometry>
                <box size="0.1111111111111111 0.1111111111111111 0.002"/>
            </geometry>
        </collision>
    </link>
    <!-- Joint: body, body_face_top_10 -->
    <joint name="body_body_face_top_10_joint" type="fixed">
        <parent link="body"/>
        <child link="body_face_top_10"/>
        <origin xyz="0.11111111111111116 0.11111111111111116 0.501"
                rpy="0 0 0"/>
        <axis xyz="0 0 1"/>
        
    </joint>


    <!-- body_face_top_11 -->
    <link name="body_face_top_11">
        <inertial>
            <origin xyz="0 0 0" rpy="0 0 0"/>
            <mass value="0"/>
            <inertia ixx=".1" ixy=".1" ixz=".1" iyy=".1" iyz=".1" izz=".1"/>
        </inertial>
        <visual>
            <origin xyz="0 0 0" rpy="0 0 0"/>
            <geometry>
                <box size="0.1111111111111111 0.1111111111111111 0.002"/>
            </geometry>
        </visual>
        <collision>
            <origin xyz="0 0 0" rpy="0 0 0"/>
            <geometry>
                <box size="0.1111111111111111 0.1111111111111111 0.002"/>
            </geometry>
        </collision>
    </link>
    <!-- Joint: body, body_face_top_11 -->
    <joint name="body_body_face_top_11_joint" type="fixed">
        <parent link="body"/>
        <child link="body_face_top_11"/>
        <origin xyz="0.2222222222222222 0.11111111111111116 0.501"
                rpy="0 0 0"/>
        <axis xyz="0 0 1"/>
        
    </joint>


    <!-- body_face_top_12 -->
    <link name="body_face_top_12">
        <inertial>
            <origin xyz="0 0 0" rpy="0 0 0"/>
            <mass value="0"/>
            <inertia ixx=".1" ixy=".1" ixz=".1" iyy=".1" iyz=".1" izz=".1"/>
        </inertial>
        <visual>
            <origin xyz="0 0 0" rpy="0 0 0"/>
            <geometry>
                <box size="0.1111111111111111 0.1111111111111111 0.002"/>
            </geometry>
        </visual>
        <collision>
            <origin xyz="0 0 0" rpy="0 0 0"/>
            <geometry>
                <box size="0.1111111111111111 0.1111111111111111 0.002"/>
            </geometry>
        </collision>
    </link>
    <!-- Joint: body, body_face_top_12 -->
    <joint name="body_body_face_top_12_joint" type="fixed">
        <parent link="body"/>
        <child link="body_face_top_12"/>
        <origin xyz="0.11111111111111116 0.2222222222222222 0.501"
                rpy="0 0 0"/>
        <axis xyz="0 0 1"/>
        
    </joint>


</robot>
